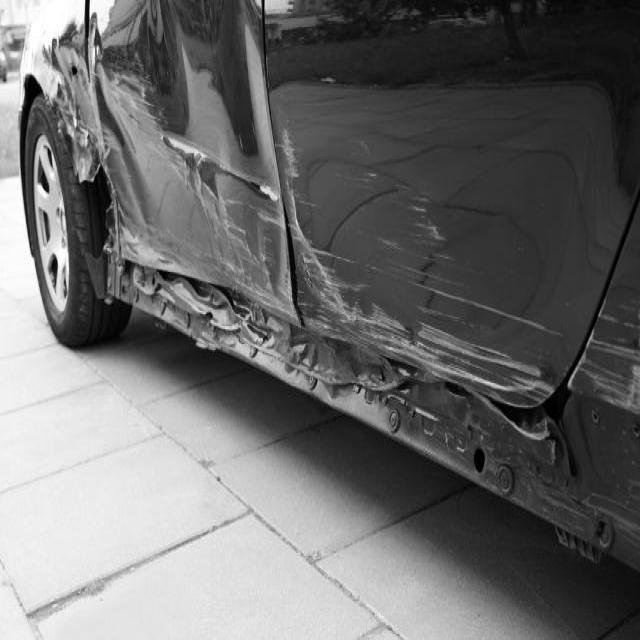Dent: (121, 77, 328, 347), (382, 301, 561, 395), (416, 251, 440, 291), (258, 180, 278, 203)
